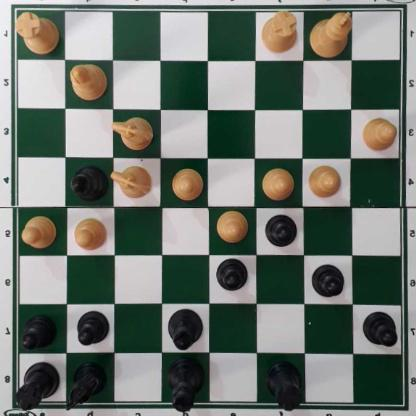black-bishop: (167, 308, 204, 351), (72, 166, 108, 204)
black-king: (166, 357, 205, 413)
black-knight: (65, 365, 106, 410)
black-pawn: (362, 312, 398, 349), (21, 317, 57, 352), (216, 259, 250, 295), (311, 265, 345, 300), (264, 214, 297, 250), (75, 312, 107, 349)
black-rook: (14, 363, 60, 415), (265, 363, 303, 412)
white-bishop: (68, 63, 108, 102)
white-king: (309, 10, 352, 60)
white-knight: (112, 116, 153, 152), (110, 166, 153, 200)
white-pawn: (360, 117, 397, 153), (307, 165, 341, 203), (215, 210, 249, 244), (73, 218, 107, 252), (21, 217, 56, 250), (261, 169, 294, 203), (170, 170, 203, 202)
white-rook: (14, 13, 60, 56), (261, 11, 299, 53)
